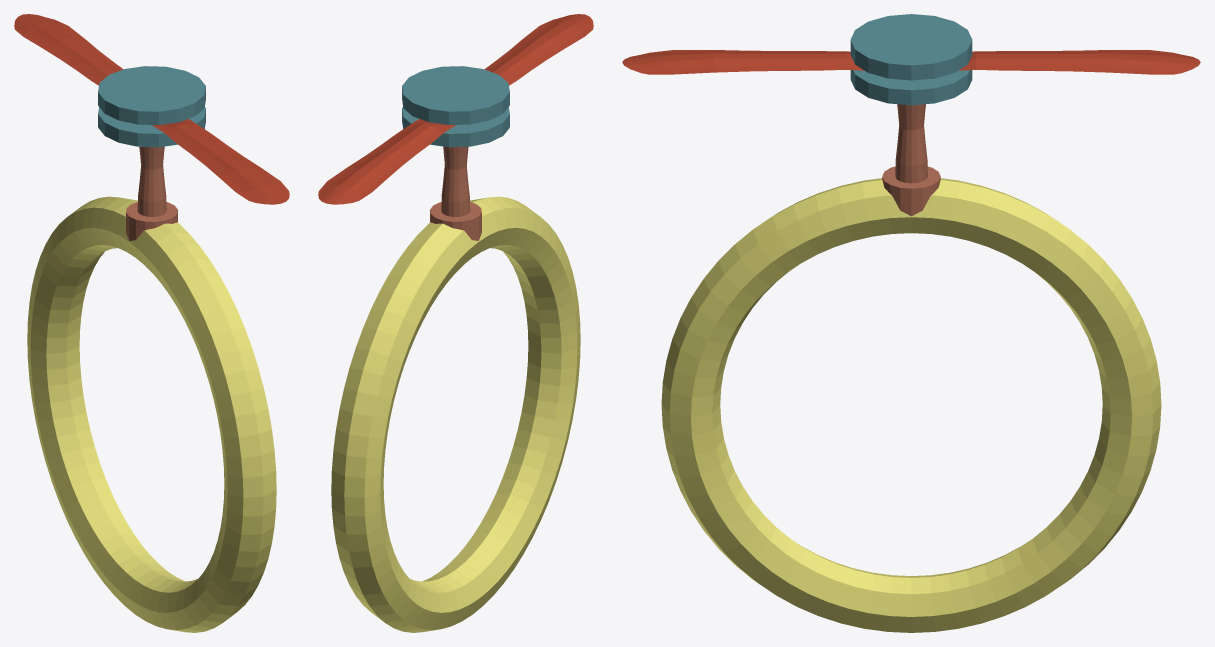
File: ring.fbx
3 renders of one model, left to right at view 1: azimuth 30°, elevation 25°; view 2: azimuth 150°, elevation 25°; view 3: azimuth 270°, elevation 25°, orthographic. The views are drawn at different scales.
Parts seen in each view (by area): view 1: Sphere, propellor, Cylinder.004, propellor2, Cylinder.001, Cylinder.002, Cylinder; view 2: Sphere, propellor, Cylinder.004, propellor2, Cylinder.001, Cylinder.002, Cylinder; view 3: Sphere, propellor, Cylinder.004, Cylinder.002, propellor2, Cylinder.001, Cylinder.
Boxes of the visible parts, bbox=[...] form: Sphere: bbox=[27, 196, 276, 632]; propellor: bbox=[14, 14, 289, 204]; Cylinder.004: bbox=[98, 66, 205, 124]; propellor2: bbox=[15, 14, 288, 203]; Cylinder.001: bbox=[137, 146, 166, 216]; Cylinder.002: bbox=[98, 107, 205, 147]; Cylinder: bbox=[126, 202, 177, 240]; Sphere: bbox=[331, 196, 580, 632]; propellor: bbox=[318, 14, 593, 204]; Cylinder.004: bbox=[402, 66, 509, 124]; propellor2: bbox=[318, 14, 593, 204]; Cylinder.001: bbox=[441, 146, 470, 216]; Cylinder.002: bbox=[402, 107, 509, 147]; Cylinder: bbox=[430, 202, 481, 240]; Sphere: bbox=[661, 178, 1161, 632]; propellor: bbox=[622, 50, 1200, 74]; Cylinder.004: bbox=[850, 14, 972, 80]; Cylinder.002: bbox=[850, 70, 972, 105]; propellor2: bbox=[623, 50, 1198, 74]; Cylinder.001: bbox=[895, 104, 927, 183]; Cylinder: bbox=[882, 166, 940, 216].
Bounding box in the file's own units: 94.52 × 506 × 449.
